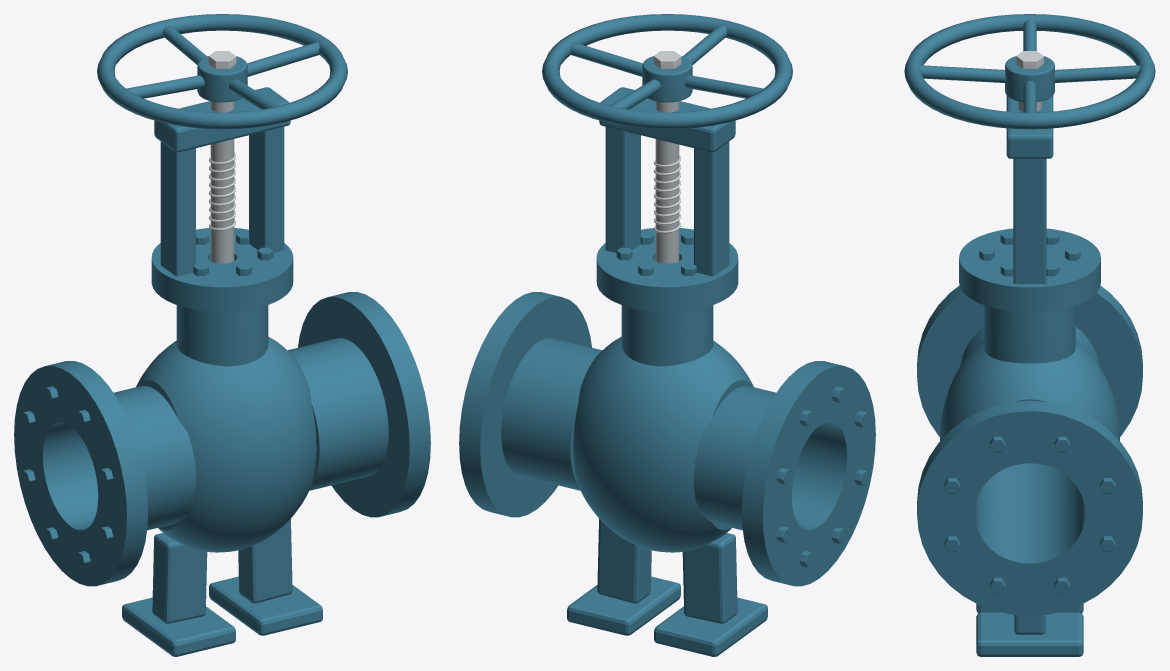
The model's file is city-flanged-gate-valve.glb.
3 views of the same model, side by side, from view 1: azimuth 30°, elevation 25°; view 2: azimuth 150°, elevation 25°; view 3: azimuth 270°, elevation 25° (orthographic).
Parts seen in each view (by area): view 1: Assembly | Blue protective equipment finish, Assembly | Satin machined steel, Assembly | Bright fastener metal; view 2: Assembly | Blue protective equipment finish, Assembly | Satin machined steel, Assembly | Bright fastener metal; view 3: Assembly | Blue protective equipment finish, Assembly | Bright fastener metal.
Boxes of the visible parts, x1,y1,x2,y2 form: Assembly | Blue protective equipment finish: (14,14,430,656); Assembly | Satin machined steel: (210,101,234,263); Assembly | Bright fastener metal: (208,51,236,230); Assembly | Blue protective equipment finish: (459,14,875,656); Assembly | Satin machined steel: (655,101,679,263); Assembly | Bright fastener metal: (653,51,681,233); Assembly | Blue protective equipment finish: (904,14,1155,656); Assembly | Bright fastener metal: (1016,51,1043,68).
Bounding box in the file's own units: 0.4949 × 0.845 × 0.34.
